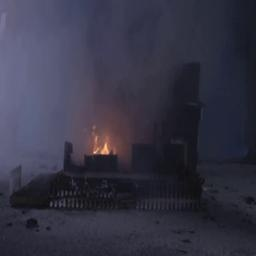fire: (79, 102, 128, 174)
smoke: (1, 2, 144, 119)
